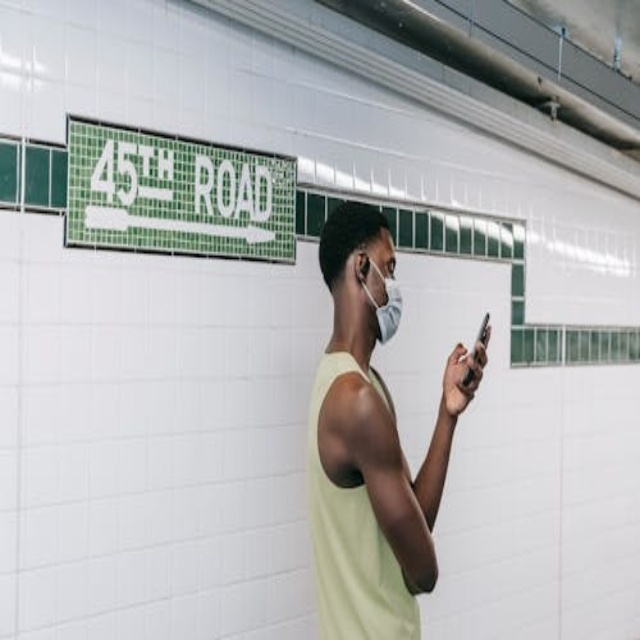Mascara: (359, 254, 403, 342)
Sin_gafas: (372, 248, 402, 283)
Sin_guantes: (443, 334, 488, 413)
